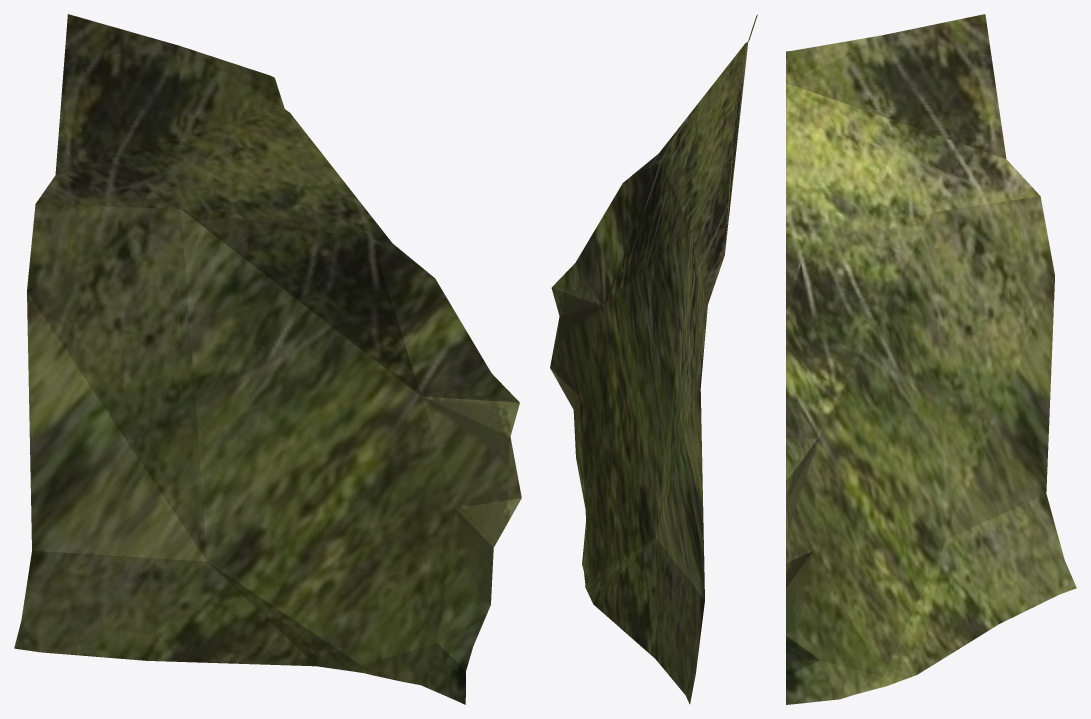
3 views of the same model, side by side, from view 1: azimuth 30°, elevation 25°; view 2: azimuth 150°, elevation 25°; view 3: azimuth 270°, elevation 25° (orthographic). The views are drawn at different scales.
Bounding box in the file's own units: 3.09 × 5.9 × 2.71.
Materials: 2 (2 with a texture image).
